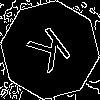K: (25, 25, 79, 82)
